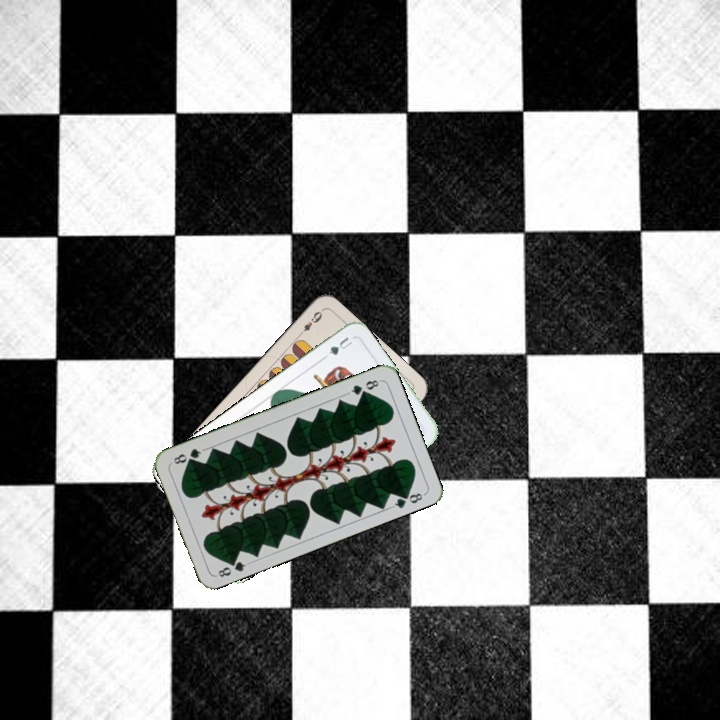E9: (294, 307, 325, 339)
G8: (214, 554, 252, 580), (344, 375, 383, 398)
GU: (324, 333, 356, 358)
